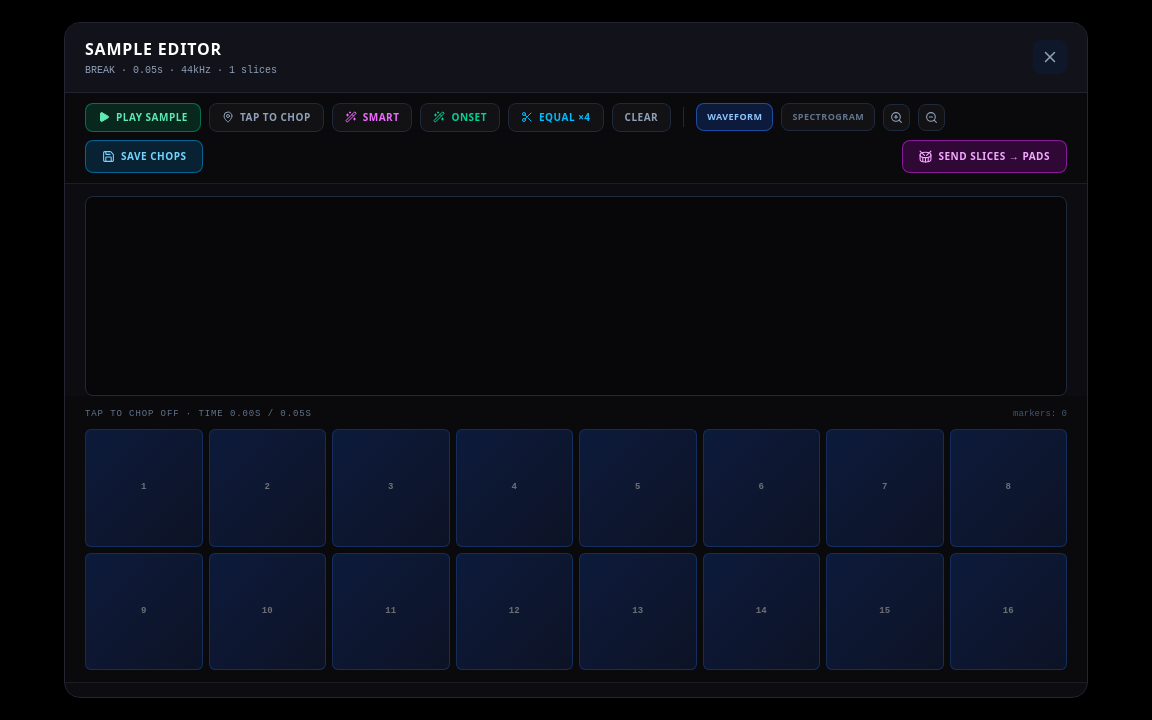
Scenario: ChopEditor coverage › drops a marker from a tap pad only while tap mode is on
Press the mouse on the button "1" at (144, 488), box [85,429,202,547]
Check: the text "markers: 0" is shown, box [1013,408,1067,421]
Click the button "Tap to Chop" at (266, 117), box [209,103,324,132]
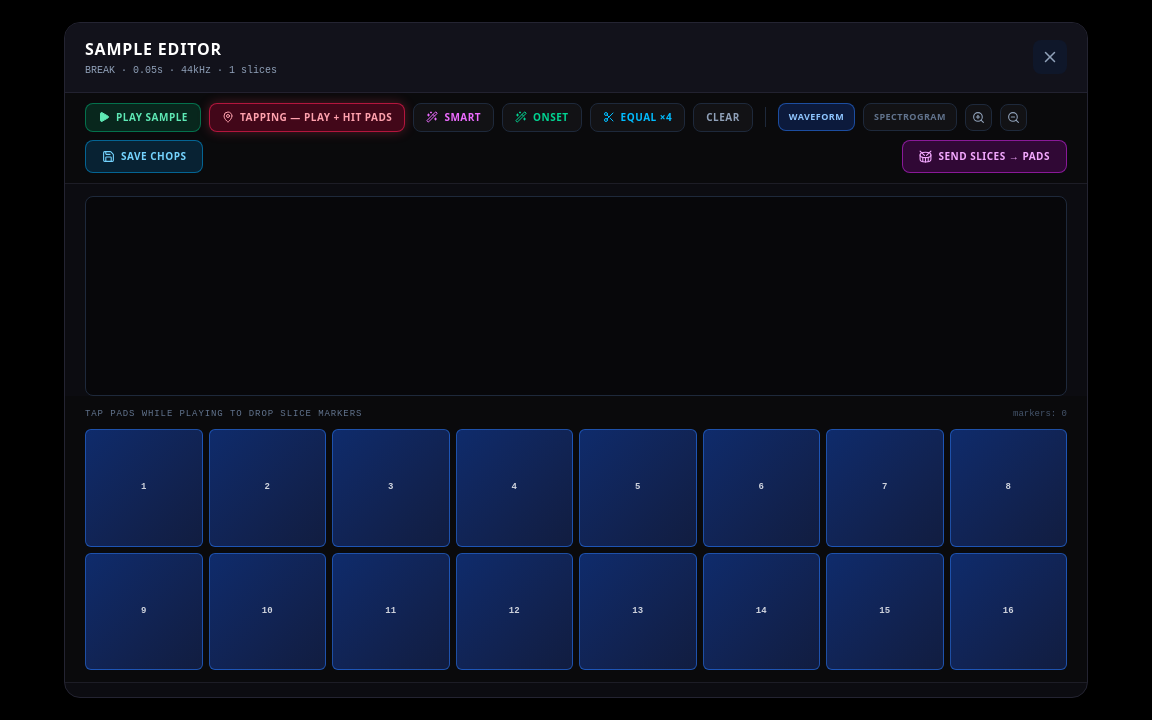
Press the mouse on the button "1" at (144, 488), box [85,429,202,547]
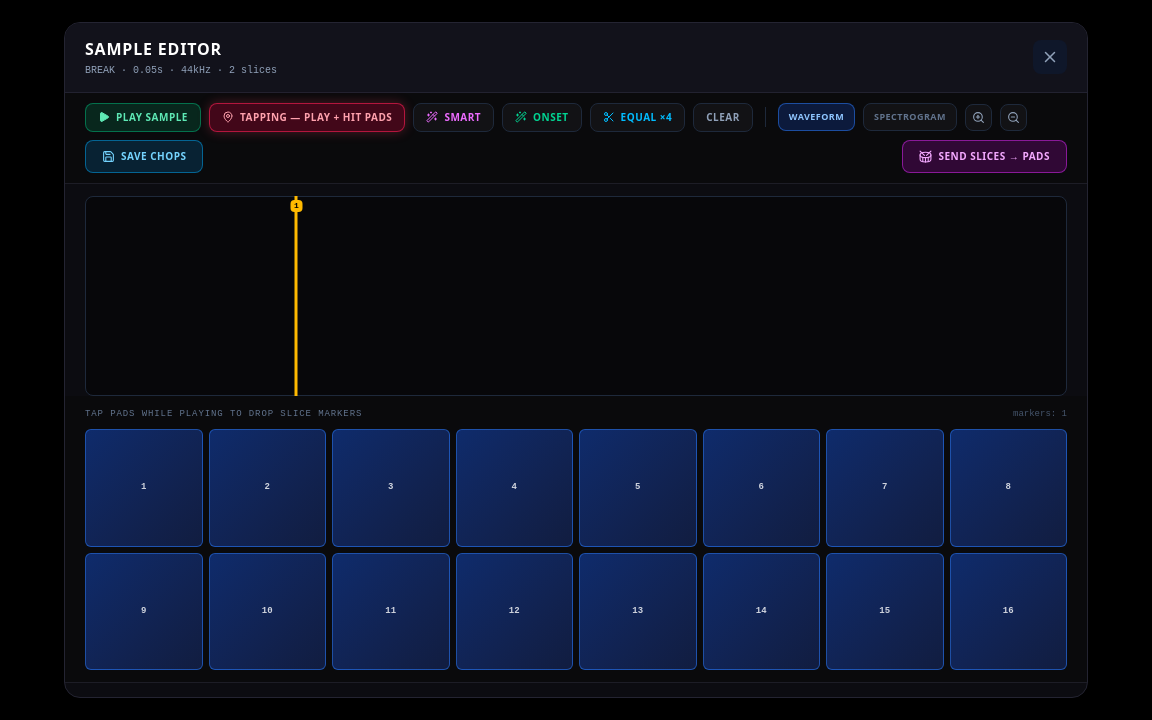
Check: the text "markers: 1" is shown, box [1013,408,1067,421]
Check: the text "BREAK · 0.05s · 44kHz · 2 slices" is shown, box [85,63,277,78]
Press the mouse on the button "2" at (267, 488), box [208,429,326,547]
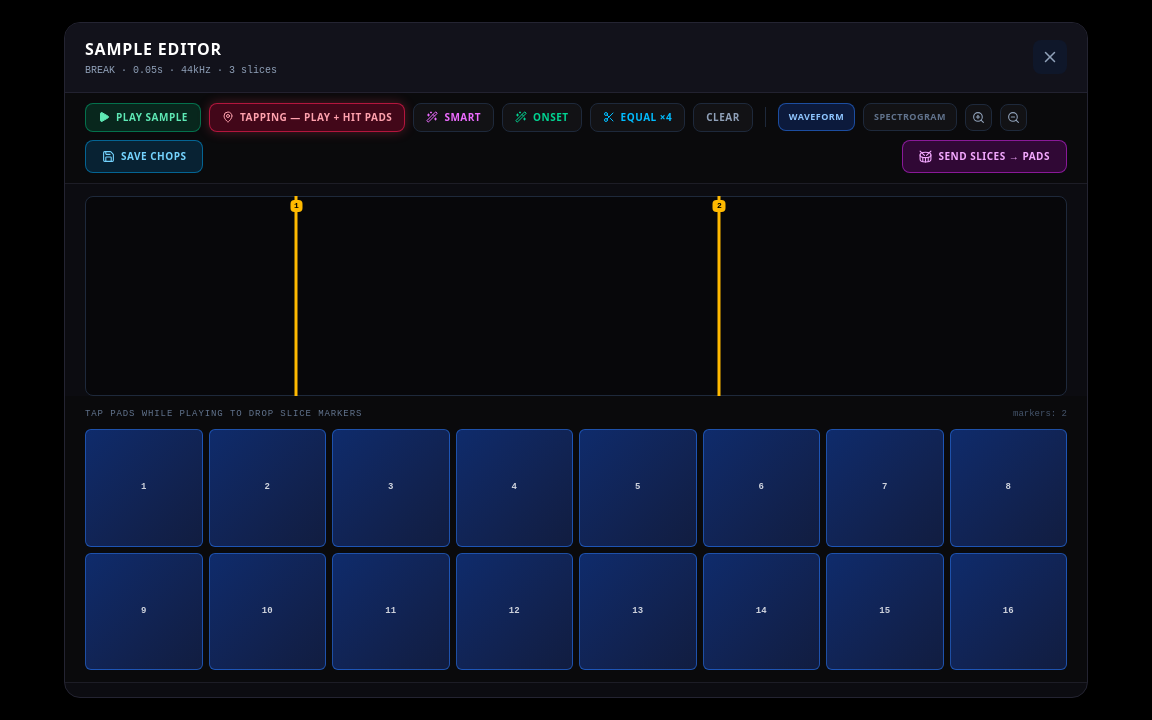
Check: the text "markers: 2" is shown, box [1013,408,1067,421]
Check: the text "BREAK · 0.05s · 44kHz · 3 slices" is shown, box [85,63,277,78]
